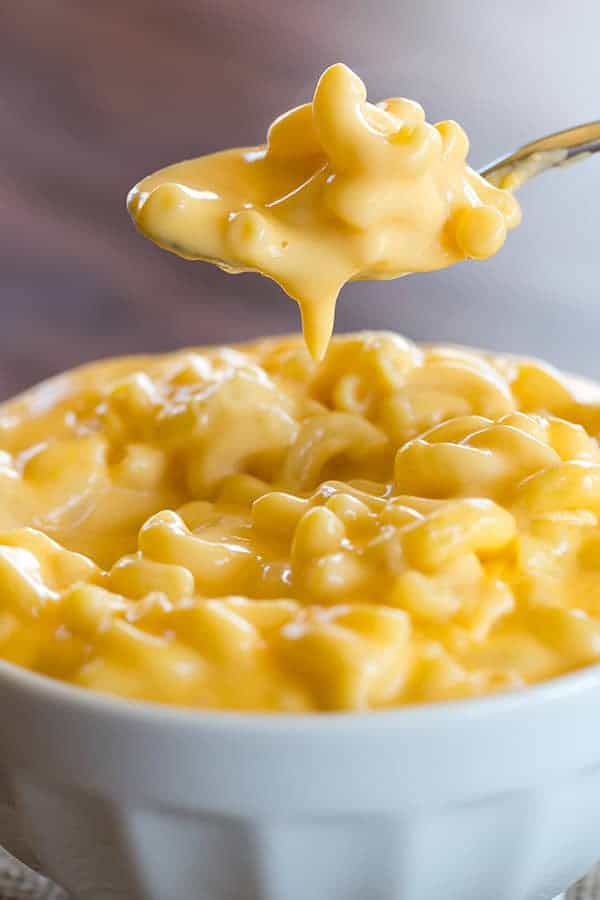macncheese: (32, 353, 593, 900)
